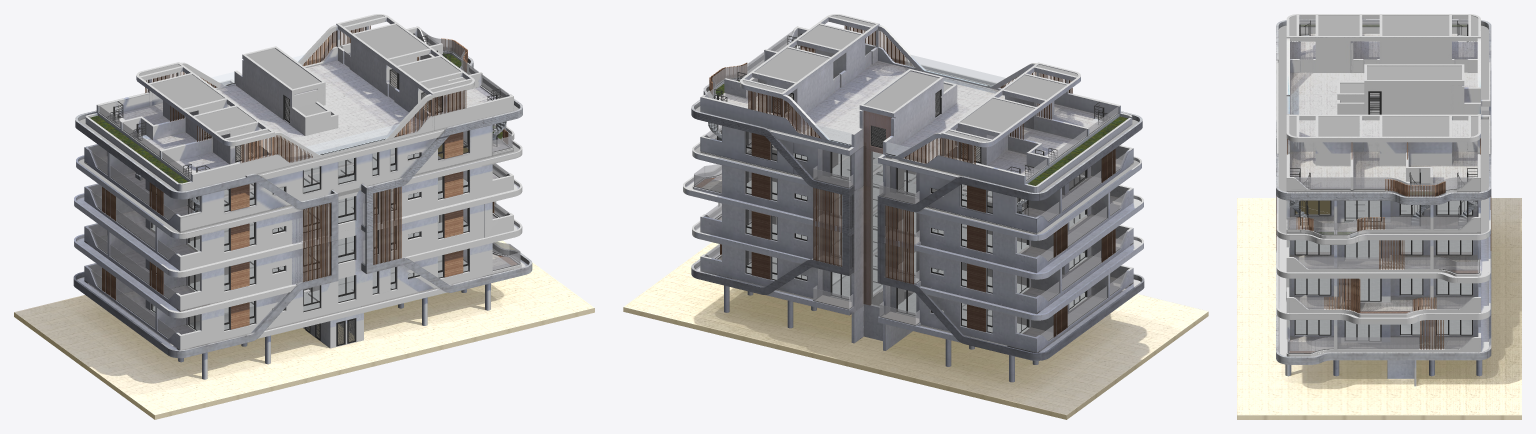
The model's file is type-d-1024.glb.
3 renders of one model, left to right at view 1: azimuth 30°, elevation 25°; view 2: azimuth 150°, elevation 25°; view 3: azimuth 270°, elevation 25°, orthographic.
Visible parts, largest first — view 1: Groun_ Floor, D_RooF, Roof_Floor, RAILING - WOOD, FL_02- Wall, Object_5874, FL_04 Wall, FL_01- Wall, FL_03- Wall001, RooF_OutLine, RAILING - 017, Obj_SLA - 013_1 (+17 smaller); view 2: Groun_ Floor, D_RooF, RAILING - WOOD, Object_5874, RAILING - 017, FL_02- Wall, Roof_Floor, RooF_OutLine, FL_04 Wall, FL_03- Wall001, FL_01- Wall, Obj_W49 (+19 smaller); view 3: Groun_ Floor, D_RooF, Object_5874, Roof_Floor, RAILING - 017, FL_Balkon, Obj_SLA - 013_1, Obj_W49, RAILING - WOOD, FL_02- Wall, D07, FL_04 Wall (+17 smaller).
Boxes of the visible parts, <box> form: Groun_ Floor: <box>14,240,594,419</box>; D_RooF: <box>114,14,482,164</box>; Roof_Floor: <box>117,56,495,176</box>; RAILING - WOOD: <box>102,25,508,300</box>; FL_02- Wall: <box>84,202,513,310</box>; Object_5874: <box>78,15,519,232</box>; FL_04 Wall: <box>84,100,513,231</box>; FL_01- Wall: <box>84,243,521,350</box>; FL_03- Wall001: <box>84,156,513,270</box>; RooF_OutLine: <box>85,26,513,191</box>; RAILING - 017: <box>89,30,520,338</box>; Obj_SLA - 013_1: <box>150,148,468,330</box>; Groun_ Floor: <box>623,242,1208,419</box>; D_RooF: <box>724,14,1102,171</box>; RAILING - WOOD: <box>709,25,1115,337</box>; Object_5874: <box>695,15,1139,234</box>; RAILING - 017: <box>693,30,1127,340</box>; FL_02- Wall: <box>700,203,1133,314</box>; Roof_Floor: <box>719,48,1100,178</box>; RooF_OutLine: <box>700,26,1132,192</box>; FL_04 Wall: <box>700,120,1133,233</box>; FL_03- Wall001: <box>692,146,1133,272</box>; FL_01- Wall: <box>700,244,1133,352</box>; Obj_W49: <box>746,132,1084,332</box>; Groun_ Floor: <box>1237,198,1521,419</box>; D_RooF: <box>1286,14,1480,190</box>; Object_5874: <box>1278,15,1488,235</box>; Roof_Floor: <box>1290,33,1477,190</box>; RAILING - 017: <box>1287,20,1490,353</box>; FL_Balkon: <box>1289,216,1478,350</box>; Obj_SLA - 013_1: <box>1295,200,1471,341</box>; Obj_W49: <box>1296,201,1471,336</box>; RAILING - WOOD: <box>1276,138,1491,349</box>; FL_02- Wall: <box>1286,278,1480,317</box>; D07: <box>1294,93,1472,341</box>; FL_04 Wall: <box>1286,186,1480,238</box>.
Size of the model in its own units: 39.02 by 20.02 by 21.63.
Materials: 44 (32 with a texture image).
